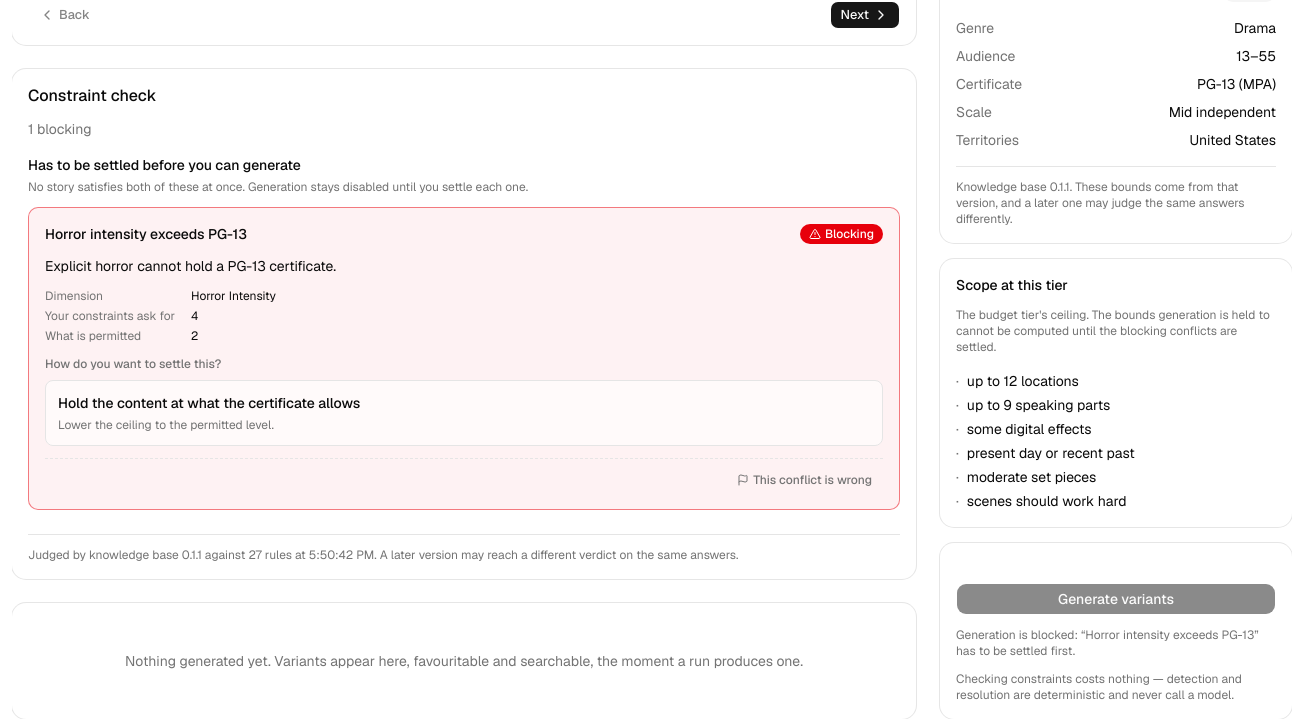
Generation › runs a generation and renders the resulting variant
(page scrolled)
What coordinates should you click on to do the following:
click the radio button labelled "Hold the content"
I would click on:
 (209, 403)
Its box is [45,380,883,446].
Wait 360 ms
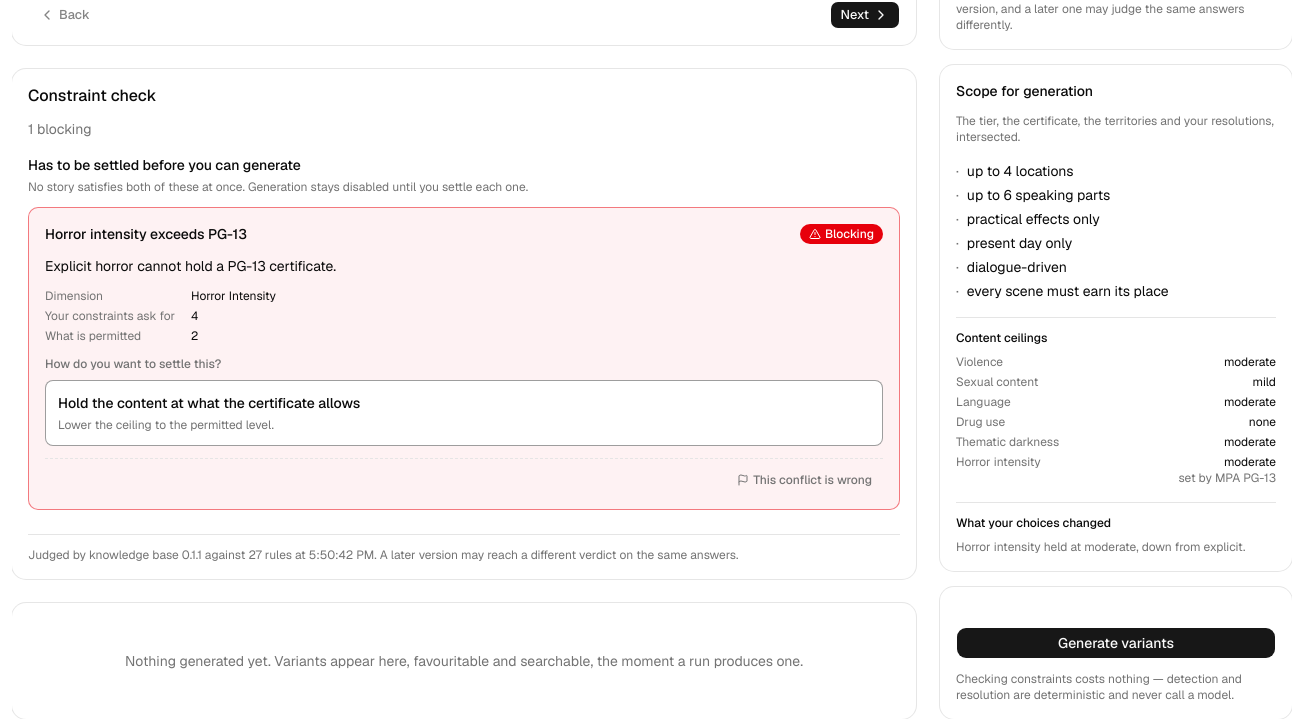
Now the button "Generate variants" is enabled
What coordinates should you click on to do the following:
click the button "Generate variants"
I would click on:
 (1116, 643)
Its box is [956,627,1276,659].
(page scrolled)
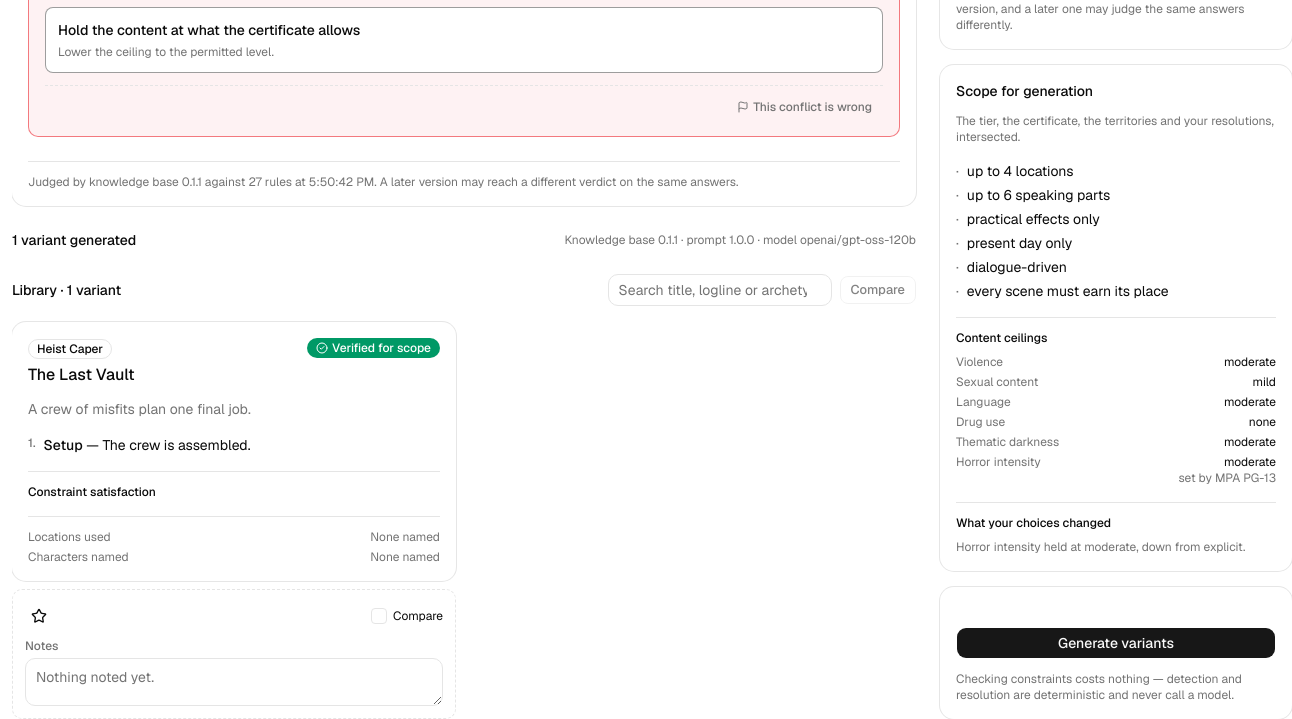
Now the text "Heist Caper" is shown, box [28,339,112,359]
Now the text "The Last Vault" is shown, box [28,363,135,387]
